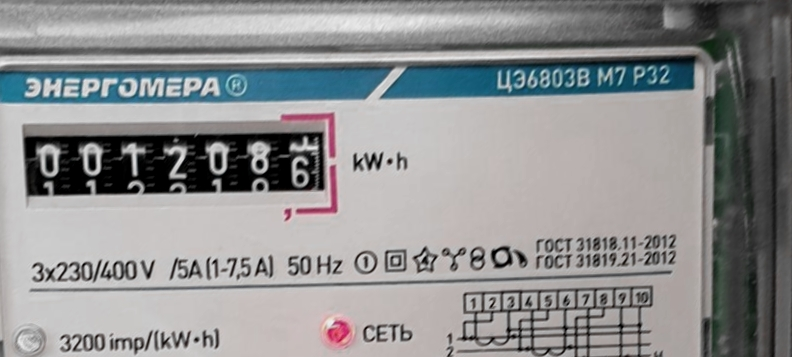0: (33, 138, 61, 178), (77, 138, 103, 176), (202, 137, 228, 174)
1: (119, 137, 142, 177)
2: (161, 141, 189, 180)
6: (285, 151, 309, 188)
8: (243, 136, 270, 174)
screen: (12, 102, 346, 229)
